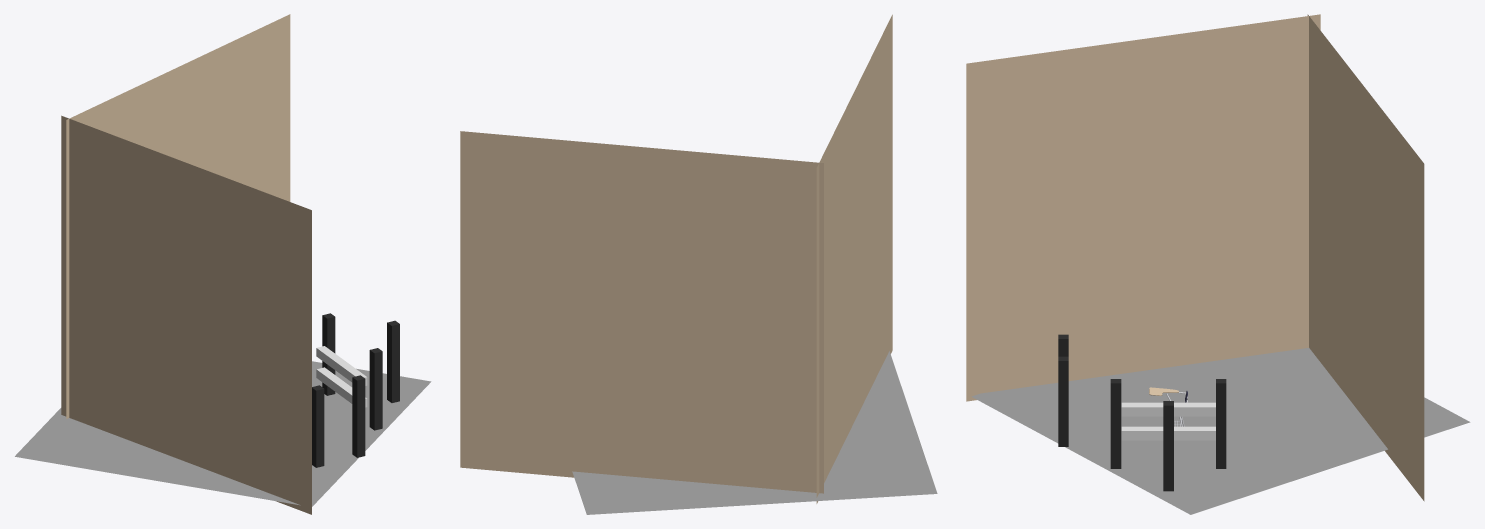
The model's file is schooldesk.fbx.
3 views of the same model, side by side, from view 1: azimuth 30°, elevation 25°; view 2: azimuth 150°, elevation 25°; view 3: azimuth 270°, elevation 25° (orthographic). The views are drawn at different scales.
Visible parts, largest first — view 1: -Wall2, -Wall1, -Floor, -Block.001, -Block.004, -Block, -Block.002, -Block.005, -Block.003, -Block.006; view 2: -Wall1, -Wall2, -Floor; view 3: -Wall2, -Wall1, -Floor, -Block.006, -Block.005, -Block.004, -Block.001, -Block, -Block.003.
Part boxes in pixels (x1=…): -Wall2: x1=61, y1=115, x2=311, y2=514; -Wall1: x1=66, y1=14, x2=290, y2=418; -Floor: x1=15, y1=361, x2=431, y2=506; -Block.001: x1=352, y1=375, x2=365, y2=457; -Block.004: x1=369, y1=348, x2=382, y2=430; -Block: x1=387, y1=320, x2=399, y2=402; -Block.002: x1=312, y1=385, x2=324, y2=467; -Block.005: x1=316, y1=346, x2=367, y2=385; -Block.003: x1=322, y1=313, x2=335, y2=395; -Block.006: x1=316, y1=367, x2=367, y2=407; -Wall1: x1=460, y1=131, x2=823, y2=493; -Wall2: x1=816, y1=14, x2=892, y2=503; -Floor: x1=572, y1=351, x2=937, y2=514; -Wall2: x1=966, y1=14, x2=1320, y2=401; -Wall1: x1=1307, y1=14, x2=1424, y2=501; -Floor: x1=971, y1=348, x2=1470, y2=514; -Block.006: x1=1121, y1=426, x2=1215, y2=440; -Block.005: x1=1121, y1=402, x2=1215, y2=416; -Block.004: x1=1110, y1=379, x2=1121, y2=468; -Block.001: x1=1058, y1=356, x2=1068, y2=446; -Block: x1=1163, y1=401, x2=1173, y2=491; -Block.003: x1=1216, y1=379, x2=1226, y2=468.
Size of the model in its own units: 951 by 710 by 960.
